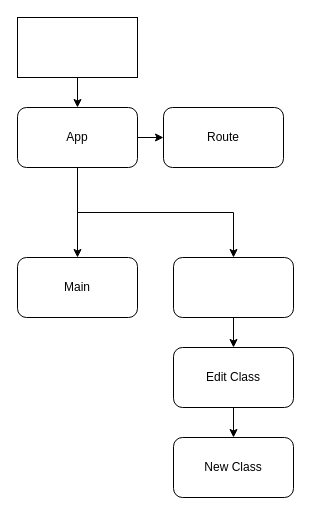
Image size: 311x515. Some labels were removed from this diagram. Each missing label, with the centre of its shape:
"Index" belongs at (77,47).
"Profile" belongs at (233,287).
